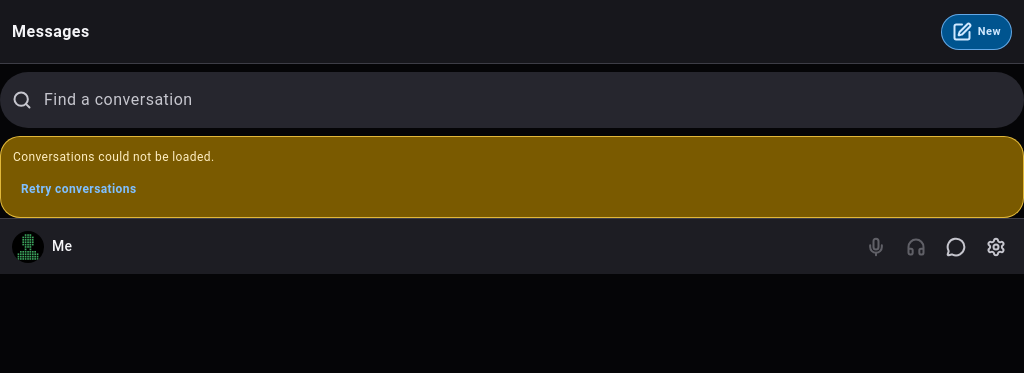
DmSidebar conversation containment › shows a retry instead of an empty state when loading fails
Expected: the text "Start a direct message" is not shown
Click the button "Retry conversations": (79, 189) [13,173,144,205]
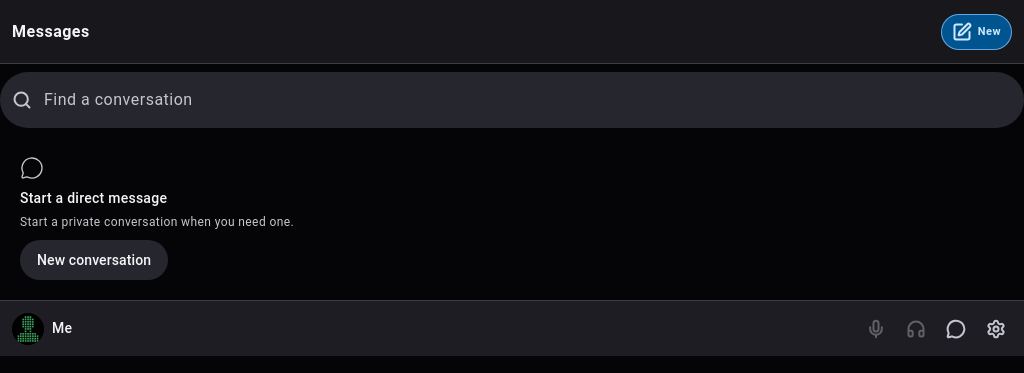
Result: the text "Start a direct message" is shown at [20,188,167,208]
